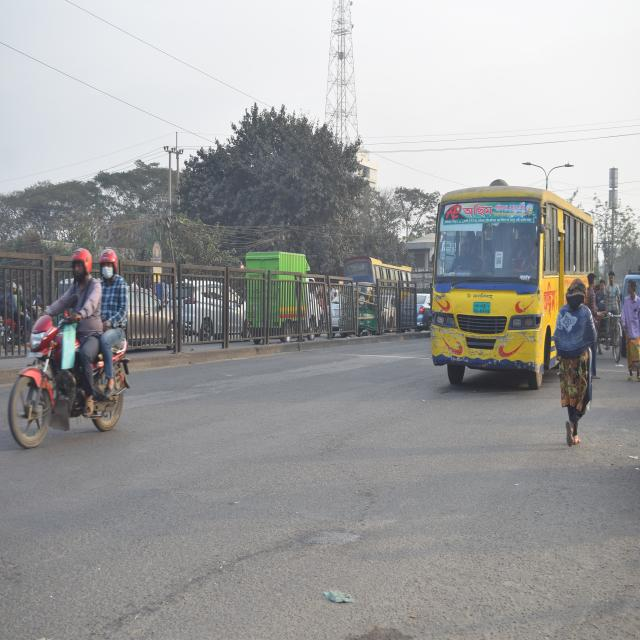bus: (435, 172, 597, 388), (349, 257, 419, 295)
car: (174, 269, 246, 339), (122, 285, 178, 356)
motorbike: (11, 320, 131, 460)
